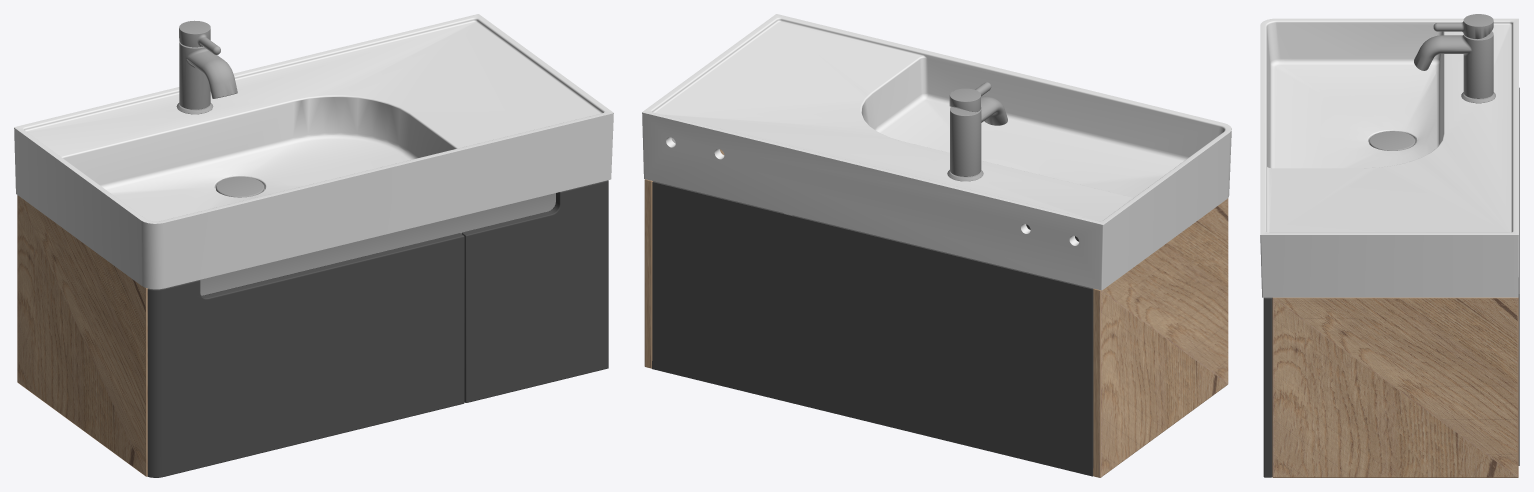
Rendered from Edge.glb.
3 renders of one model, left to right at view 1: azimuth 30°, elevation 25°; view 2: azimuth 150°, elevation 25°; view 3: azimuth 270°, elevation 25°, orthographic. The views are drawn at different scales.
Parts seen in each view (by area): view 1: Solid2-washbasin, Solid2-faasade, Solid2-sides, Solid2-alluminium, Solid2-crane; view 2: Solid2-washbasin, Solid2-faasade, Solid2-sides, Solid2-crane; view 3: Solid2-washbasin, Solid2-sides, Solid2-crane, Solid2-faasade.
Boxes of the visible parts, bbox=[...] form: Solid2-washbasin: bbox=[14, 14, 613, 289]; Solid2-faasade: bbox=[147, 180, 608, 477]; Solid2-sides: bbox=[17, 195, 147, 476]; Solid2-alluminium: bbox=[200, 193, 555, 295]; Solid2-crane: bbox=[176, 20, 264, 197]; Solid2-washbasin: bbox=[642, 14, 1231, 290]; Solid2-faasade: bbox=[652, 181, 1093, 476]; Solid2-sides: bbox=[644, 149, 1228, 477]; Solid2-crane: bbox=[947, 82, 1007, 181]; Solid2-washbasin: bbox=[1260, 18, 1518, 297]; Solid2-sides: bbox=[1272, 297, 1518, 477]; Solid2-crane: bbox=[1369, 14, 1495, 150]; Solid2-faasade: bbox=[1263, 87, 1519, 477].
Size of the model in its own units: 0.95 by 0.649 by 0.4813.
5 materials, 1 textured.
